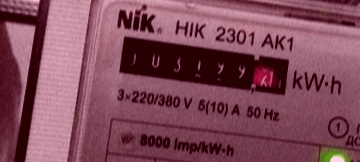0: (149, 49, 163, 70), (126, 47, 138, 66)
1: (193, 53, 205, 72)
3: (170, 53, 183, 74)
6: (258, 71, 270, 87)
9: (214, 56, 227, 77), (235, 61, 248, 80)
screen: (110, 24, 298, 106)
